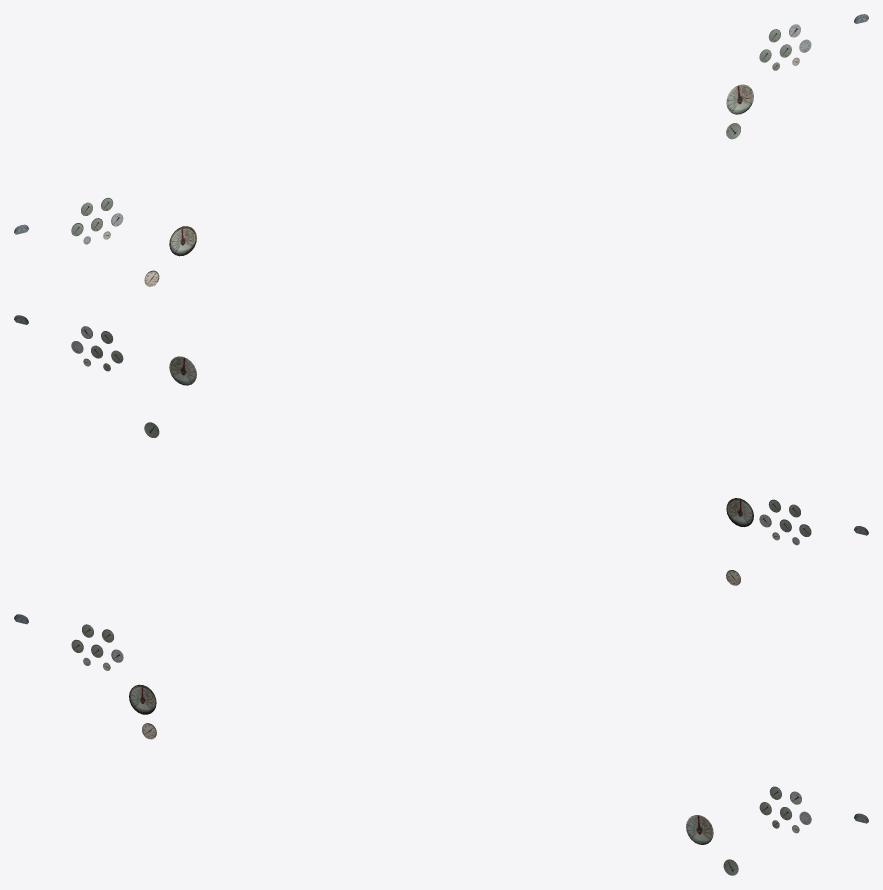
The model's file is Meter2.fbx.
3 views of the same model, one above another, from view 1: azimuth 30°, elevation 25°; view 2: azimuth 150°, elevation 25°; view 3: azimuth 330°, elevation 25° (orthographic).
Parts seen in each view (by area): view 1: Meter.001; view 2: Meter.001; view 3: Meter.001.
Part boxes in pixels (box(x1,y1,x2,y2)): Meter.001: box(14, 14, 868, 286); Meter.001: box(14, 315, 868, 585); Meter.001: box(14, 614, 868, 875).
Size of the model in its own units: 667 by 77.19 by 28.57.
